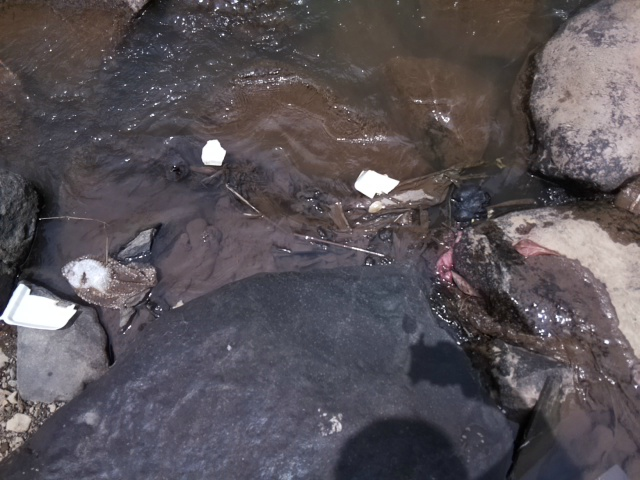Sampah_Plastik: (60, 254, 161, 313), (446, 184, 494, 227)
Sampah_Styrofoam: (1, 281, 76, 333), (354, 168, 401, 199), (200, 138, 229, 167)
